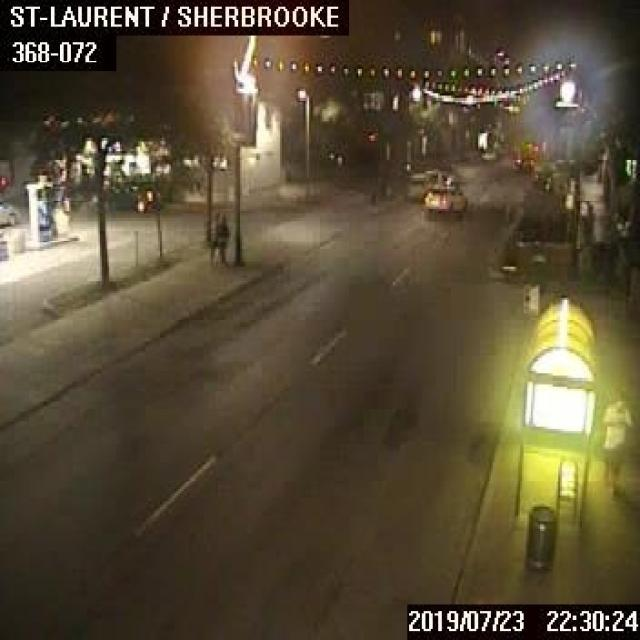pedestrian: (600, 391, 631, 493), (213, 211, 227, 265)
vehicle: (89, 179, 158, 210), (422, 182, 466, 214), (404, 171, 433, 198), (0, 200, 18, 224), (479, 146, 497, 158)
